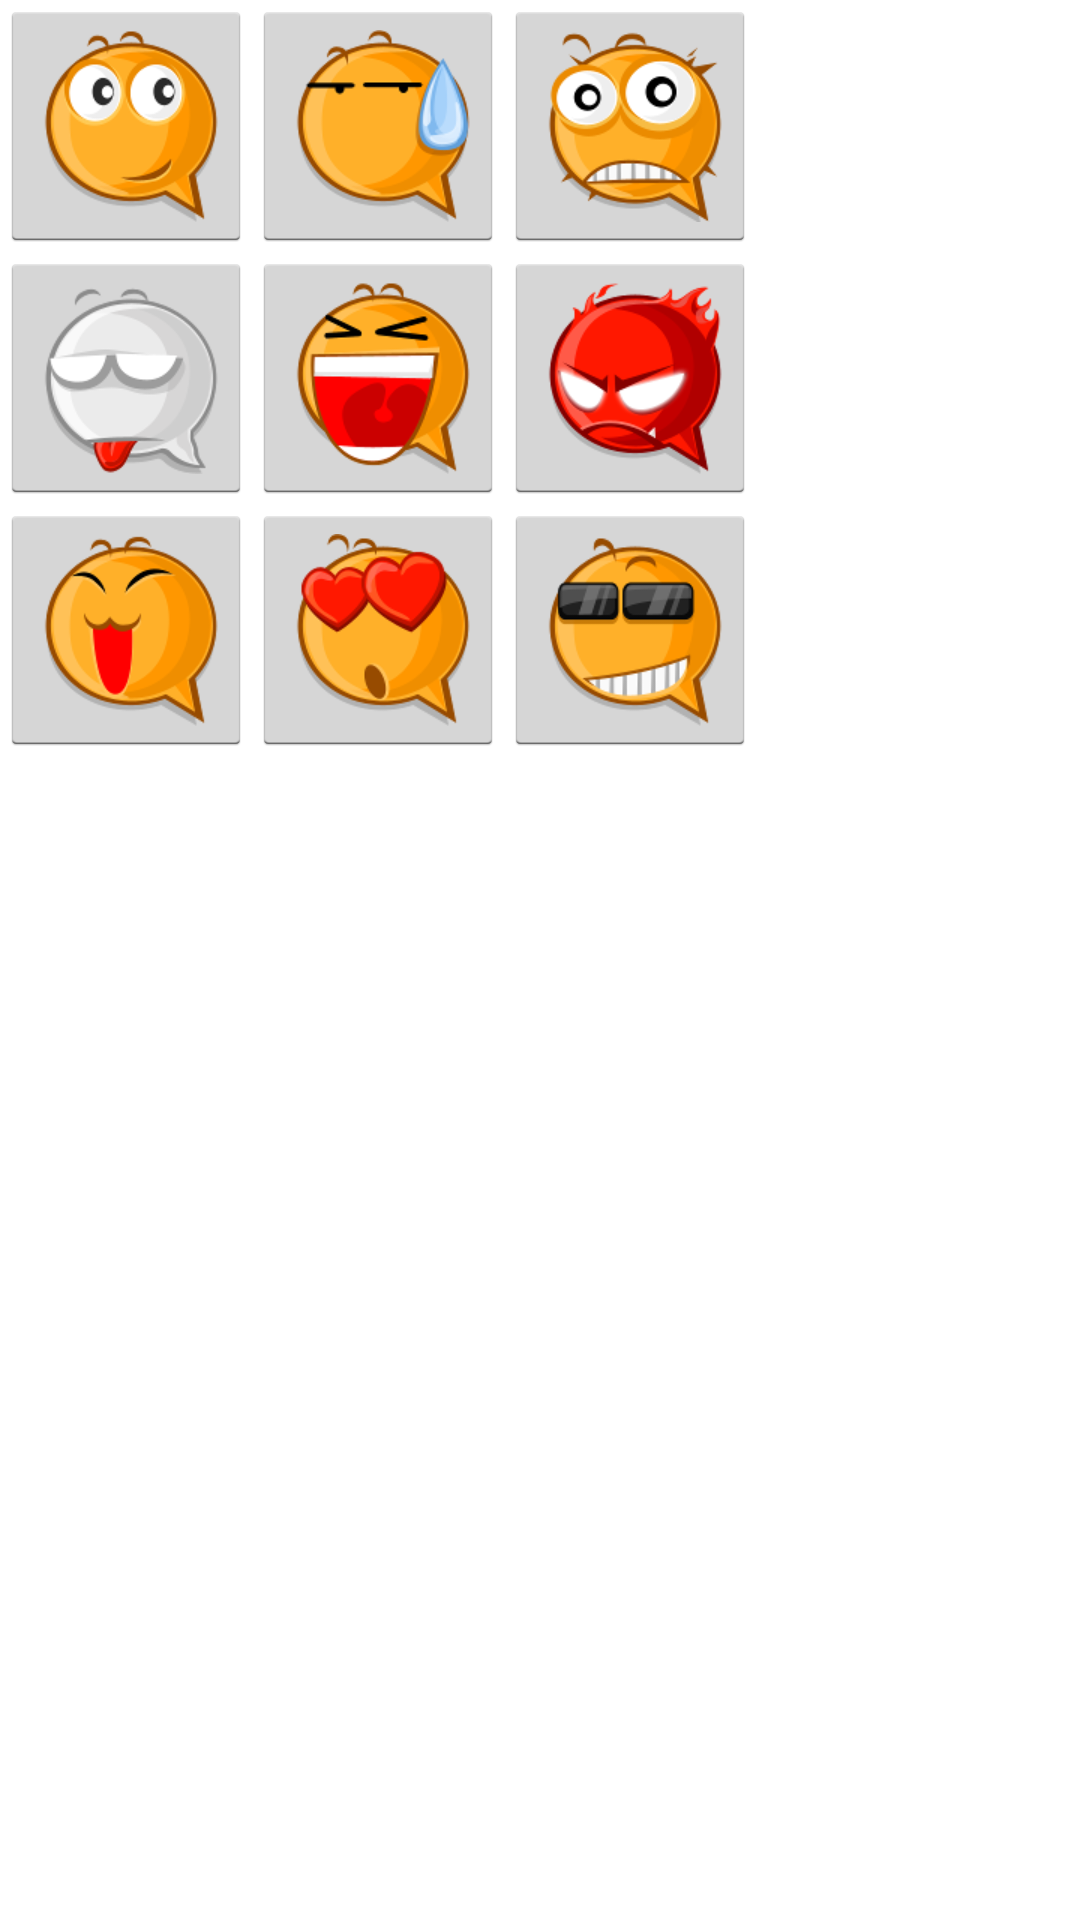

Where icons sit on this 1080px×1920px app screen, as (x1, y1, x2, y2):
cool: (516, 517, 744, 745)
fire: (516, 265, 744, 493)
love: (264, 517, 492, 745)
shout: (264, 265, 492, 493)
smile: (12, 13, 240, 241)
surprise: (516, 13, 744, 241)
sweat: (264, 13, 492, 241)
